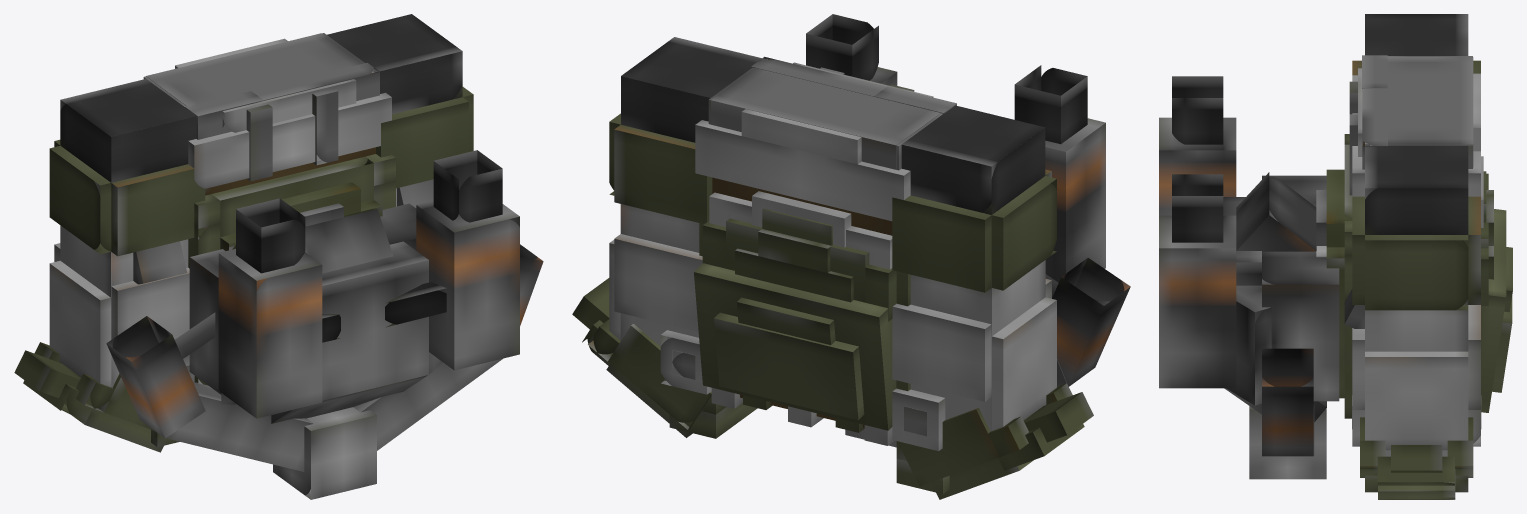
File: t51_j_armor.obj
3 renders of one model, left to right at view 1: azimuth 30°, elevation 25°; view 2: azimuth 150°, elevation 25°; view 3: azimuth 270°, elevation 25°, orthographic. The views are drawn at different scales.
Parts seen in each view (by area): view 1: Body, RightArm, LeftArm; view 2: Body, RightArm, LeftArm; view 3: Body, LeftArm, RightArm.
Part boxes in pixels (x1=…): Body: x1=106, y1=33, x2=543, y2=499; RightArm: x1=14, y1=79, x2=205, y2=452; LeftArm: x1=327, y1=14, x2=473, y2=207; Body: x1=694, y1=14, x2=1130, y2=447; RightArm: x1=892, y1=105, x2=1093, y2=499; LeftArm: x1=572, y1=37, x2=766, y2=438; Body: x1=1159, y1=55, x2=1512, y2=479; LeftArm: x1=1344, y1=144, x2=1481, y2=499; RightArm: x1=1352, y1=14, x2=1480, y2=75.
Bounding box in the file's own units: 21.36 × 15.54 × 13.74.
